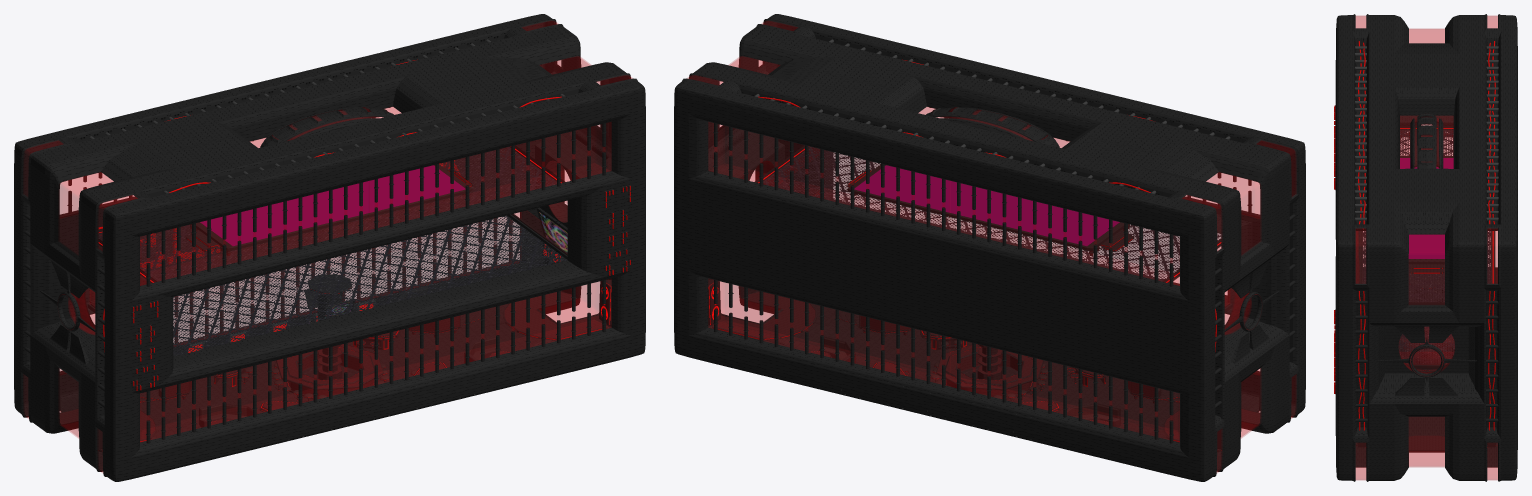
Rendered from CELLBLOCK-transformed.glb.
The picture shows the model from 3 angles, left to right: view 1: azimuth 30°, elevation 25°; view 2: azimuth 150°, elevation 25°; view 3: azimuth 270°, elevation 25°; orthographic projection. The views are drawn at different scales.
Visible parts, largest first — view 1: Core; view 2: Core; view 3: Core.
Boxes of the visible parts, left/top/right/bottom form: Core: left=14, top=14, right=645, bottom=481; Core: left=674, top=14, right=1305, bottom=481; Core: left=1334, top=14, right=1517, bottom=481.
Bounding box in the file's own units: 7.75 × 3.76 × 2.6.
Materials: 10 (4 with a texture image).
